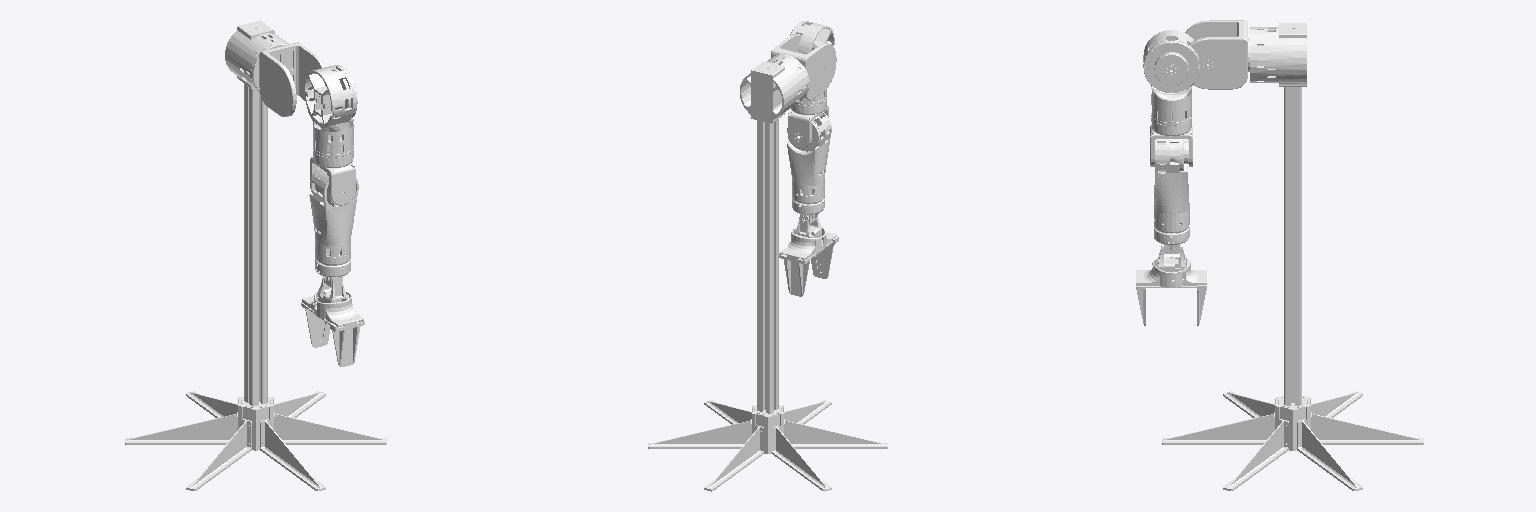
robot.urdf — arm_ver_3:
<?xml version='1.0' encoding='utf-8'?>
<robot name="arm_ver_3">

    <material name="white">
        <color rgba="1.0 1.0 1.0 1.0" />
    </material>

    <link name="base">
        <inertial>
            <origin xyz="6.7459e-09 -0.0131 0.5124" rpy="0 0 0" />
            <mass value="17.337" />
            <inertia ixx="3.248" iyy="3.238" izz="0.100" ixy="0" iyz="0.099" ixz="0" />
        </inertial>
        <visual name="base_visual">
            <origin xyz="0 0 0" rpy="0 0 0" />
            <geometry>
                <mesh filename="package://final_project/meshes/base.stl" scale="0.001 0.001 0.001" />
            </geometry>
            <material name="white" />
        </visual>
        <collision name="base_collision">
            <origin xyz="0 0 0" rpy="0 0 0" />
            <geometry>
                <mesh filename="package://final_project/meshes/base.stl" scale="0.001 0.001 0.001" />
            </geometry>
        </collision>
    </link>

    <link name="joint1">
        <inertial>
            <origin xyz="-0.0001 -0.0027 -0.0466" rpy="0 0 0" />
            <mass value="3.421" />
            <inertia ixx="0.010" iyy="0.012" izz="0.009" ixy="0" iyz="0.0004" ixz="0" />
        </inertial>
        <visual name="joint1_visual">
            <origin xyz="1.77e-17 0.95 0.108" rpy="1.5707 0 0" />
            <geometry>
                <mesh filename="package://final_project/meshes/joint1.stl" scale="0.001 0.001 0.001" />
            </geometry>
            <material name="white" />
        </visual>
        <collision name="joint1_collision">
            <origin xyz="1.77e-17 0.95 0.108" rpy="1.5707 0 0" />
            <geometry>
                <mesh filename="package://final_project/meshes/joint1.stl" scale="0.001 0.001 0.001" />
            </geometry>
        </collision>
    </link>

    <link name="joint2">
        <inertial>
            <origin xyz="-0.051 0 -0.037" rpy="0 0 0" />
            <mass value="5.966" />
            <inertia ixx="0.008" iyy="0.026" izz="0.028" ixy="0" iyz="0" ixz="-0.0006" />
        </inertial>
        <visual name="joint2_visual">
            <origin xyz="-0.949 -0.186 -0.039" rpy="3.1415 -1.5707 0" />
            <geometry>
                <mesh filename="package://final_project/meshes/joint2.stl" scale="0.001 0.001 0.001" />
            </geometry>
            <material name="white" />
        </visual>
        <collision name="joint2_collision">
            <origin xyz="-0.949 -0.186 -0.039" rpy="3.1415 -1.5707 0" />
            <geometry>
                <mesh filename="package://final_project/meshes/joint2.stl" scale="0.001 0.001 0.001" />
            </geometry>
        </collision>
    </link>

    <link name="joint3">
        <inertial>
            <origin xyz="0 0.0003 0.038" rpy="0 0 0" />
            <mass value="1.265" />
            <inertia ixx="0.0027" iyy="0.0014" izz="0.0020" ixy="0" iyz="-1.2e-05" ixz="0" />
        </inertial>
        <visual name="joint3_visual">
            <origin xyz="6.3e-17 -0.186 0.798" rpy="-3.1415 0 0" />
            <geometry>
                <mesh filename="package://final_project/meshes/joint3.stl" scale="0.001 0.001 0.001" />
            </geometry>
            <material name="white" />
        </visual>
        <collision name="joint3_collision">
            <origin xyz="6.3e-17 -0.186 0.798" rpy="-3.1415 0 0" />
            <geometry>
                <mesh filename="package://final_project/meshes/joint3.stl" scale="0.001 0.001 0.001" />
            </geometry>
        </collision>
    </link>

    <link name="joint4">
        <inertial>
            <origin xyz="0.0005 0.070 -0.037" rpy="0 0 0" />
            <mass value="4.552" />
            <inertia ixx="0.020" iyy="0.004" izz="0.021" ixy="-0.0001" iyz="0.0002" ixz="0" />
        </inertial>
        <visual name="joint4_visual">
            <origin xyz="8.0e-16 0.73 0.148" rpy="1.5707 0 0" />
            <geometry>
                <mesh filename="package://final_project/meshes/joint4.stl" scale="0.001 0.001 0.001" />
            </geometry>
            <material name="white" />
        </visual>
        <collision name="joint4_collision">
            <origin xyz="8.0e-16 0.73 0.148" rpy="1.5707 0 0" />
            <geometry>
                <mesh filename="package://final_project/meshes/joint4.stl" scale="0.001 0.001 0.001" />
            </geometry>
        </collision>
    </link>

    <link name="joint5">
        <inertial>
            <origin xyz="0 -0.0001 0.029" rpy="0 0 0" />
            <mass value="1.165" />
            <inertia ixx="0.0006" iyy="0.0006" izz="0.0006" ixy="0" iyz="4.3e-06" ixz="0" />
        </inertial>
        <visual name="joint5_visual">
            <origin xyz="1.1e-14 -0.186 0.558" rpy="3.1415 0 0" />
            <geometry>
                <mesh filename="package://final_project/meshes/joint5.stl" scale="0.001 0.001 0.001" />
            </geometry>
            <material name="white" />
        </visual>
        <collision name="joint5_collision">
            <origin xyz="1.1e-14 -0.186 0.558" rpy="3.1415 0 0" />
            <geometry>
                <mesh filename="package://final_project/meshes/joint5.stl" scale="0.001 0.001 0.001" />
            </geometry>
        </collision>
    </link>

    <link name="endpoint">
        <inertial>
            <origin xyz="0 -0.079 -0.016" rpy="0 0 0" />
            <mass value="1.889" />
            <inertia ixx="0.006" iyy="0.004" izz="0.002" ixy="0" iyz="4.3e-06" ixz="6.3e-05" />
        </inertial>
        <visual name="endpoint_visual">
            <origin xyz="1.0e-15 -0.500 -0.206" rpy="-1.5707 0 0" />
            <geometry>
                <mesh filename="package://final_project/meshes/endpoint.stl" scale="0.001 0.001 0.001" />
            </geometry>
            <material name="white" />
        </visual>
        <collision name="endpoint_collision">
            <origin xyz="1.0e-15 -0.500 -0.206" rpy="-1.5707 0 0" />
            <geometry>
                <mesh filename="package://final_project/meshes/endpoint.stl" scale="0.001 0.001 0.001" />
            </geometry>
        </collision>
    </link>

    <joint name="joint_7" type="revolute">
        <origin xyz="0.0 -0.10875 0.95" rpy="-1.5707 0 0" />
        <parent link="base" />
        <child link="joint1" />
        <axis xyz="0 0 1" />
        <limit lower="-3.1416" upper="1.3963" effort="10.0" velocity="0.35" />
    </joint>

    <joint name="joint_8" type="revolute">
        <origin xyz="0.081692 0.000000 -0.160395" rpy="-1.5707 0 -1.5707" />
        <parent link="joint1" />
        <child link="joint2" />
        <axis xyz="0 0 1" />
        <limit lower="-2.0944" upper="0.3491" effort="10.0" velocity="0.35" />
    </joint>

    <joint name="joint_9" type="revolute">
        <origin xyz="-0.15125 0 -0.039625" rpy="0 -1.5707 0" />
        <parent link="joint2" />
        <child link="joint3" />
        <axis xyz="0 0 1" />
        <limit lower="-3.1416" upper="3.1416" effort="10.0" velocity="1.0" />
    </joint>

    <joint name="joint_10" type="revolute">
        <origin xyz="0 -0.038 0.06875" rpy="1.5707 0 0" />
        <parent link="joint3" />
        <child link="joint4" />
        <axis xyz="0 0 1" />
        <limit lower="-2.0944" upper="0.1745" effort="10.0" velocity="1.0" />
    </joint>

    <joint name="joint_11" type="revolute">
        <origin xyz="0 0.172 -0.038" rpy="-1.5707 0 0" />
        <parent link="joint4" />
        <child link="joint5" />
        <axis xyz="0 0 1" />
        <limit lower="-3.1416" upper="3.1416" effort="10.0" velocity="3.0" />
    </joint>

    <joint name="joint_12" type="revolute">
        <origin xyz="0 0.0169 0.058" rpy="-1.5707 0 0" />
        <parent link="joint5" />
        <child link="endpoint" />
        <axis xyz="0 0 1" />
        <limit lower="-1.7453" upper="1.7453" effort="10.0" velocity="3.0" />
    </joint>
</robot>

--- What the picture shows (computed from the rendered views, not written in the file) ---
Views: 3 orthographic renders of the robot side by side, from view 1: azimuth 30°, elevation 25°; view 2: azimuth 150°, elevation 25°; view 3: azimuth 270°, elevation 25°.
Robot: arm_ver_3 — 7 links, 6 joints (6 revolute); root link base; default pose: all joints at 0.
Visible links, largest first — view 1: base, joint2, endpoint, joint1, joint4, joint3; view 2: base, endpoint, joint4, joint1, joint2, joint3; view 3: base, joint2, joint1, joint4, endpoint, joint5.
Link boxes in pixels (x1,y1,x2,y2): base: [125, 20, 386, 490]; joint2: [304, 65, 357, 167]; endpoint: [301, 277, 364, 366]; joint1: [259, 42, 324, 116]; joint4: [309, 167, 358, 265]; joint3: [310, 157, 355, 205]; base: [648, 54, 887, 491]; endpoint: [779, 214, 838, 296]; joint4: [787, 112, 831, 203]; joint1: [771, 35, 836, 100]; joint2: [790, 21, 834, 114]; joint3: [788, 105, 828, 148]; base: [1162, 23, 1423, 490]; joint2: [1143, 30, 1199, 135]; joint1: [1185, 20, 1247, 89]; joint4: [1154, 139, 1189, 233]; endpoint: [1136, 244, 1206, 325]; joint5: [1154, 227, 1189, 253].
Bounding box of the posed robot: 0.5155 × 0.6415 × 1.01 m (x, y, z).
7 mesh visuals loaded from 7 distinct referenced files (7 binary STL).
